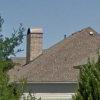Chimney: (21, 24, 42, 64)
